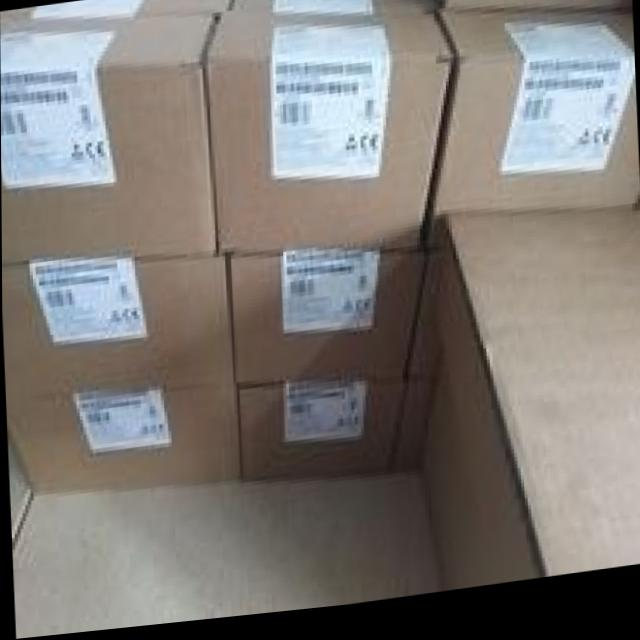box: (427, 219, 640, 594), (204, 16, 453, 257), (0, 17, 217, 263), (420, 22, 640, 256), (2, 261, 232, 395), (227, 256, 428, 387), (5, 392, 236, 497), (417, 367, 492, 601), (235, 387, 405, 484), (229, 0, 442, 22), (0, 0, 229, 20), (433, 0, 632, 23)
